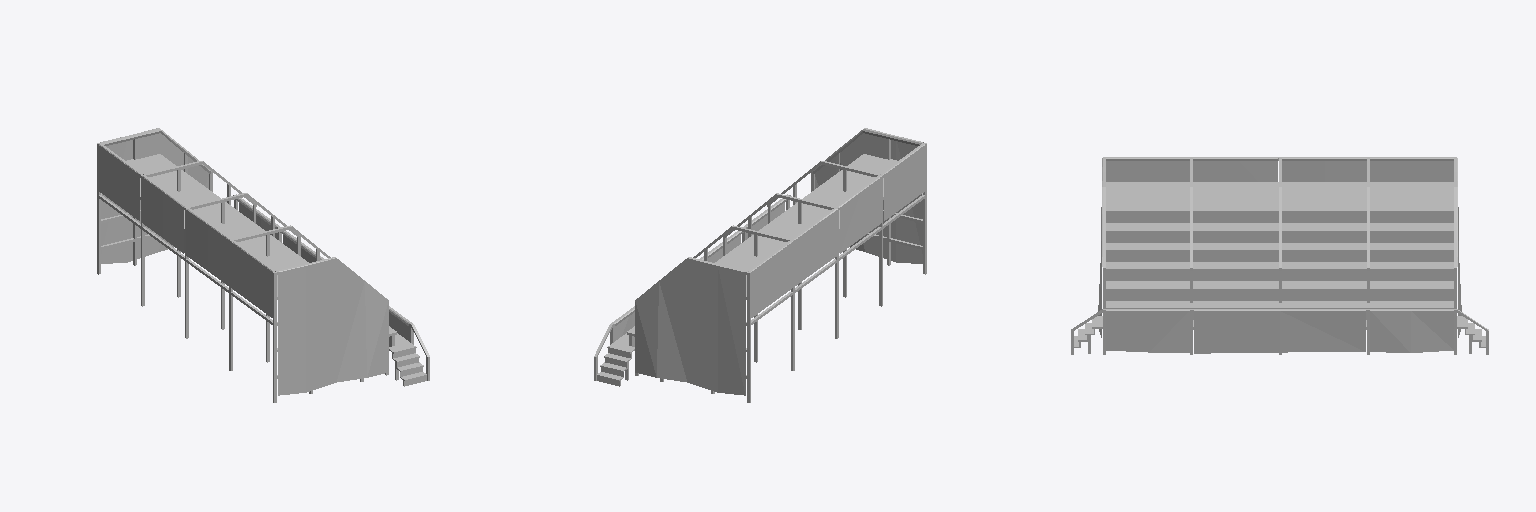
File: Platform_white_blue.obj
3 renders of one model, left to right at view 1: azimuth 30°, elevation 25°; view 2: azimuth 150°, elevation 25°; view 3: azimuth 270°, elevation 25°, orthographic.
Visible parts, largest first — view 1: Platform_01; view 2: Platform_01; view 3: Platform_01.
Boxes of the visible parts, x1=… form: Platform_01: x1=97, y1=128, x2=429, y2=402; Platform_01: x1=594, y1=128, x2=926, y2=402; Platform_01: x1=1071, y1=157, x2=1488, y2=354.
Size of the model in its own units: 5.63 by 4.96 by 14.4.